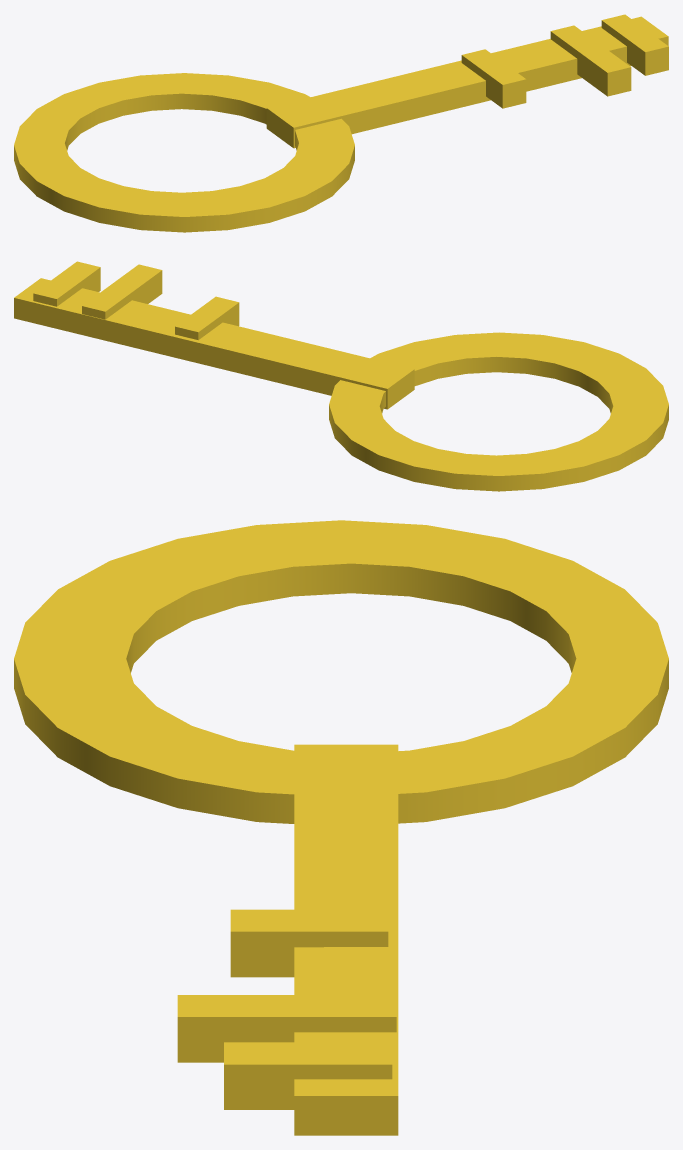
The model's file is llave.gltf.
3 renders of one model, top to bottom at view 1: azimuth 30°, elevation 25°; view 2: azimuth 150°, elevation 25°; view 3: azimuth 270°, elevation 25°, orthographic. The views are drawn at different scales.
Visible parts, largest first — view 1: Union (×2), Part (×3); view 2: Union (×2), Part (×3); view 3: Union (×2), Part (×3).
Boxes of the visible parts, <box> form: Union (×2): <box>14,16,668,232</box>; Part (×3): <box>461,14,668,108</box>; Union (×2): <box>14,278,668,491</box>; Part (×3): <box>33,261,239,340</box>; Union (×2): <box>14,520,668,1135</box>; Part (×3): <box>177,909,396,1109</box>.
Size of the model in its own units: 1.32 by 0.0582 by 0.6274.
